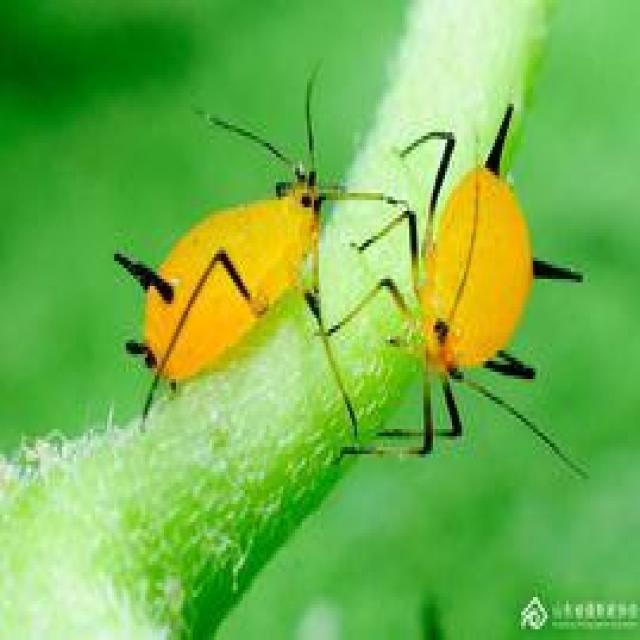Aphids: (370, 126, 586, 502), (118, 112, 368, 419)
